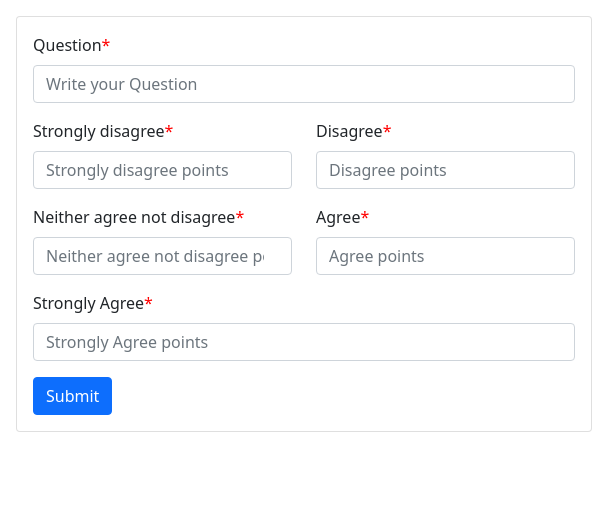
Scenario: Create screen › Check create screen form content
The image size is (609, 523).
Expected: the button "Submit" is shown, x1=33 y1=377 x2=112 y2=415
Expected: the text "Question" reads "Question*", x1=33 y1=34 x2=102 y2=56
Type "I take time out for others." into the field named "Question *".
click(304, 84); type("I take time out for others.")  # box x1=33 y1=65 x2=575 y2=103
Type "10" into the number field named "Strongly disagree *".
click(162, 170); type("10")  # box x1=33 y1=151 x2=292 y2=189
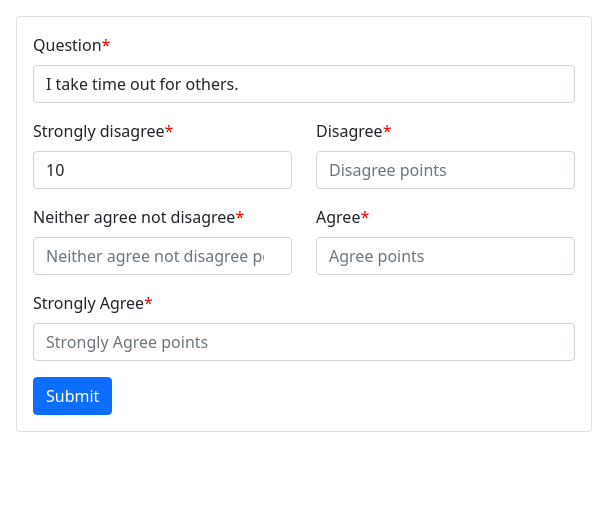
Type "30" into the number field named "Disagree *".
click(446, 170); type("30")  # box x1=316 y1=151 x2=575 y2=189
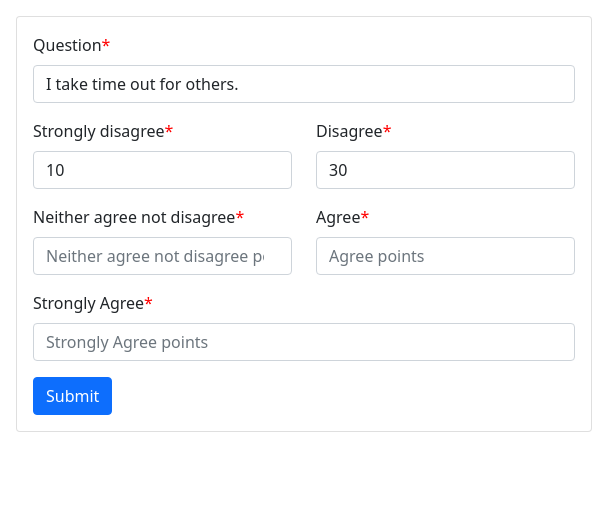
Type "50" into the number field named "Neither agree not disagree *".
click(162, 256); type("50")  # box x1=33 y1=237 x2=292 y2=275
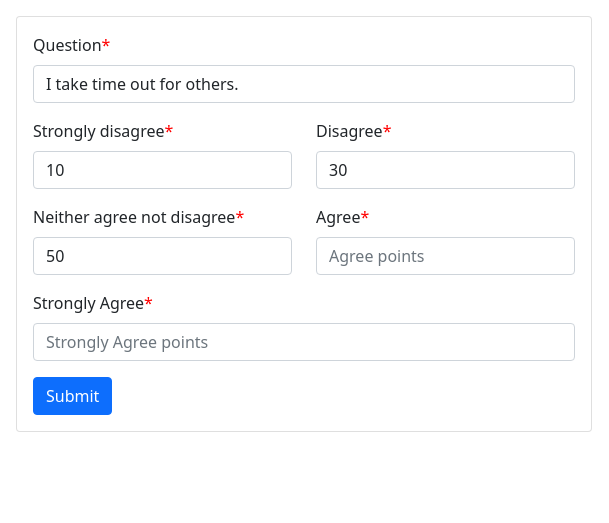
Type "70" into the number field named "Agree *".
click(446, 256); type("70")  # box x1=316 y1=237 x2=575 y2=275
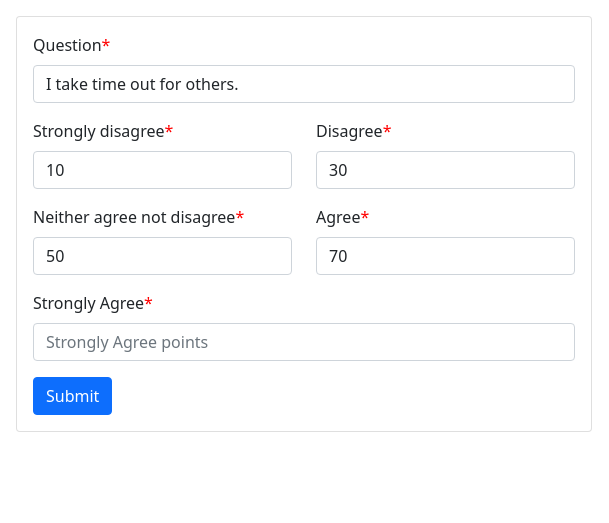
Type "100" into the number field named "Strongly Agree *".
click(304, 342); type("100")  # box x1=33 y1=323 x2=575 y2=361
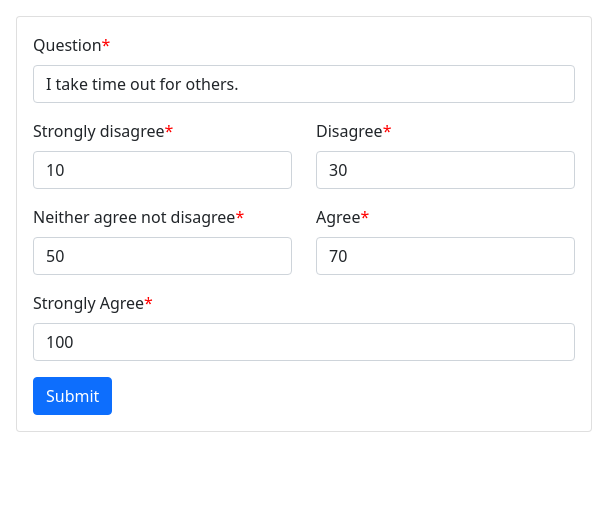
Click the button "Submit".
click(73, 396)  # box x1=33 y1=377 x2=112 y2=415
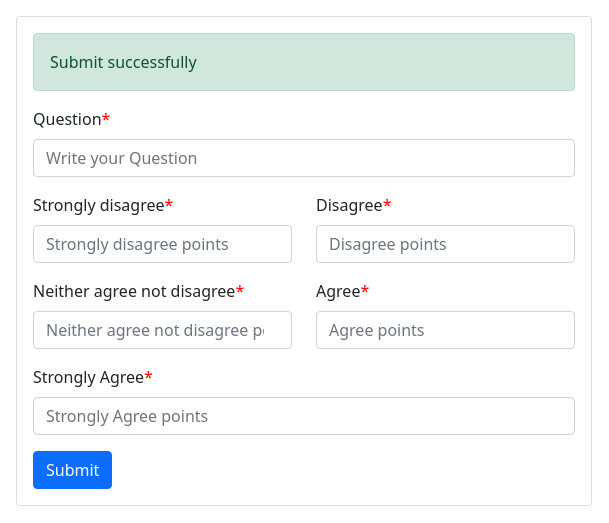
Now the text "Submit successfully" is shown, box x1=33 y1=33 x2=575 y2=91
